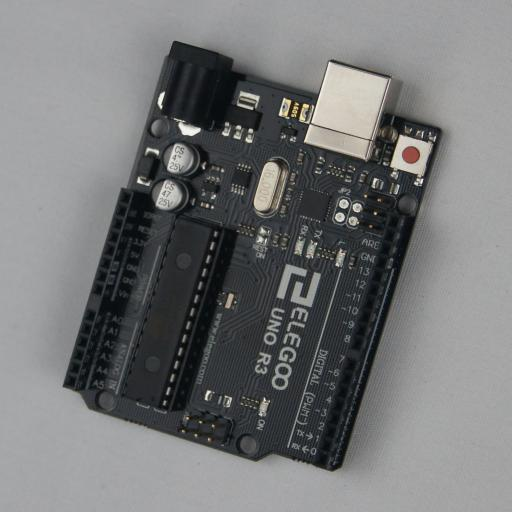Arduino Uno -Black-: (63, 41, 444, 471)
